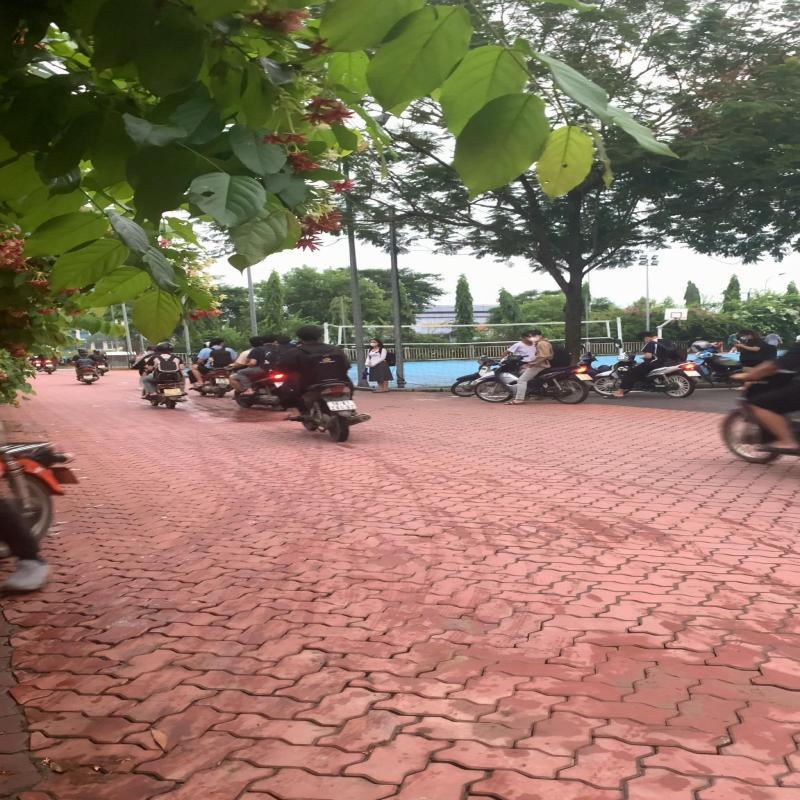licenseplate: (326, 399, 358, 411)
motorcyclist: (278, 324, 372, 442), (186, 336, 236, 398)
nohelmet: (295, 324, 324, 341), (248, 336, 266, 348), (260, 334, 278, 343), (209, 338, 226, 346)
